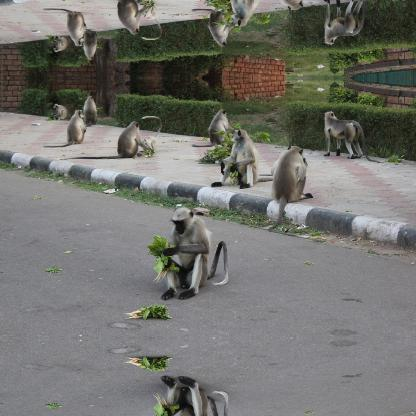Monkey: (153, 206, 229, 300), (58, 118, 156, 160), (209, 127, 278, 186), (270, 146, 312, 240), (58, 0, 157, 38), (318, 111, 384, 163), (318, 0, 384, 46), (153, 376, 230, 415), (208, 0, 278, 29), (42, 109, 90, 147), (42, 9, 90, 47), (190, 108, 235, 146), (190, 10, 235, 48), (140, 117, 164, 153), (140, 3, 164, 39), (84, 96, 98, 124), (84, 32, 98, 60), (50, 104, 70, 118), (50, 38, 70, 52)
